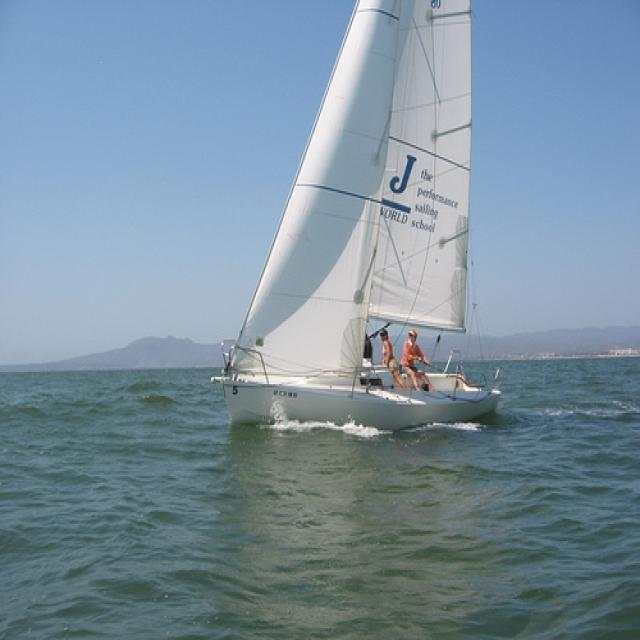Ship: (205, 1, 498, 427)
